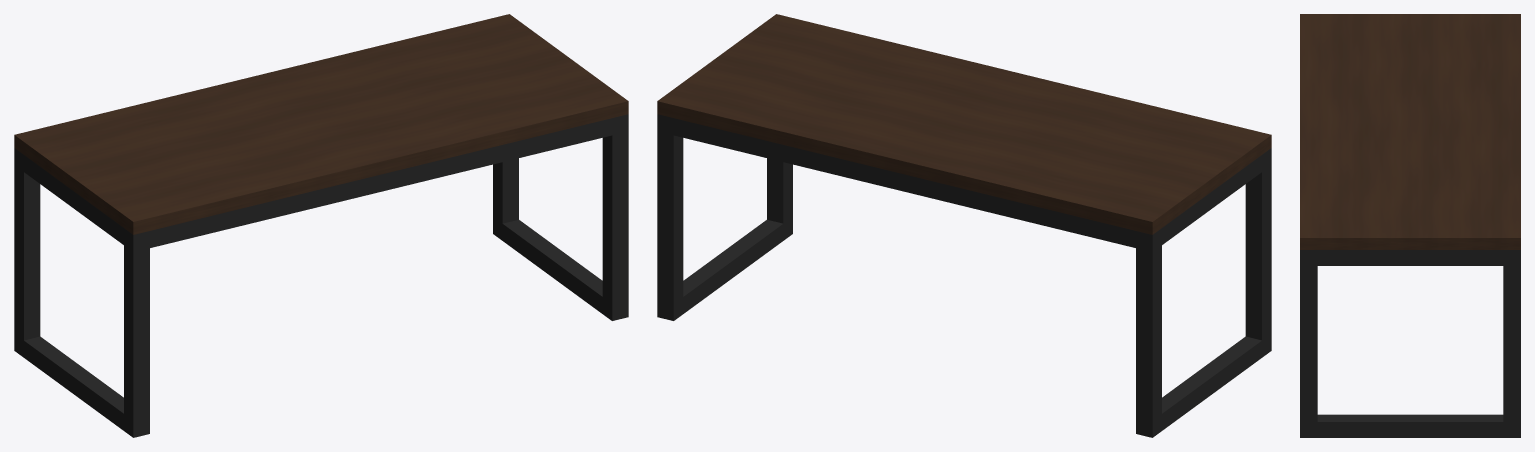
File: mesa-living-nord-ebano-negro-4cm.glb
The picture shows the model from 3 angles, left to right: view 1: azimuth 30°, elevation 25°; view 2: azimuth 150°, elevation 25°; view 3: azimuth 270°, elevation 25°; orthographic projection. The views are drawn at different scales.
Parts seen in each view (by area): view 1: Tapa de madera maciza 120 x 50 cm, Pata recta de hierro 4 x 4 cm (×4), Larguero longitudinal superior recto, Travesaño inferior recto (×2), Travesaño superior recto; view 2: Tapa de madera maciza 120 x 50 cm, Pata recta de hierro 4 x 4 cm (×4), Larguero longitudinal superior recto, Travesaño inferior recto (×2), Travesaño superior recto; view 3: Tapa de madera maciza 120 x 50 cm, Pata recta de hierro 4 x 4 cm (×2), Travesaño inferior recto, Travesaño superior recto.
Part boxes in pixels (x1,y1,x2,y2): Tapa de madera maciza 120 x 50 cm: (14, 14, 628, 234); Pata recta de hierro 4 x 4 cm (×4): (14, 114, 628, 437); Larguero longitudinal superior recto: (150, 118, 612, 247); Travesaño inferior recto (×2): (19, 219, 602, 430); Travesaño superior recto: (19, 153, 128, 247); Tapa de madera maciza 120 x 50 cm: (657, 14, 1271, 234); Pata recta de hierro 4 x 4 cm (×4): (657, 114, 1271, 437); Larguero longitudinal superior recto: (673, 118, 1135, 247); Travesaño inferior recto (×2): (679, 219, 1266, 430); Travesaño superior recto: (1162, 154, 1266, 244); Tapa de madera maciza 120 x 50 cm: (1300, 14, 1520, 249); Pata recta de hierro 4 x 4 cm (×2): (1300, 250, 1520, 437); Travesaño inferior recto: (1309, 414, 1511, 437); Travesaño superior recto: (1309, 250, 1511, 265).
Bounding box in the file's own units: 1.2 × 0.5 × 0.5.
Materials: 2 (1 with a texture image).
